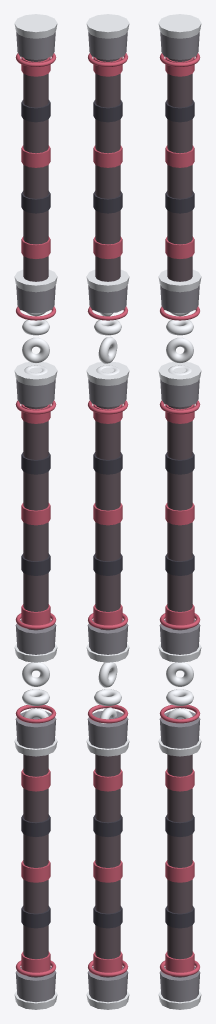
Rendered from zephyr_right.glb.
3 renders of one model, left to right at view 1: azimuth 90°, elevation 25°; view 2: azimuth 150°, elevation 25°; view 3: azimuth 270°, elevation 25°, orthographic.
Visible parts, largest first — view 1: zephyr_right; view 2: zephyr_right; view 3: zephyr_right.
Boxes of the visible parts, x1,y1,x2,y2 form: zephyr_right: (14, 14, 57, 1009); zephyr_right: (86, 14, 129, 1009); zephyr_right: (158, 14, 201, 1009).
Size of the model in its own units: 0.0651 by 1.63 by 0.0651.
